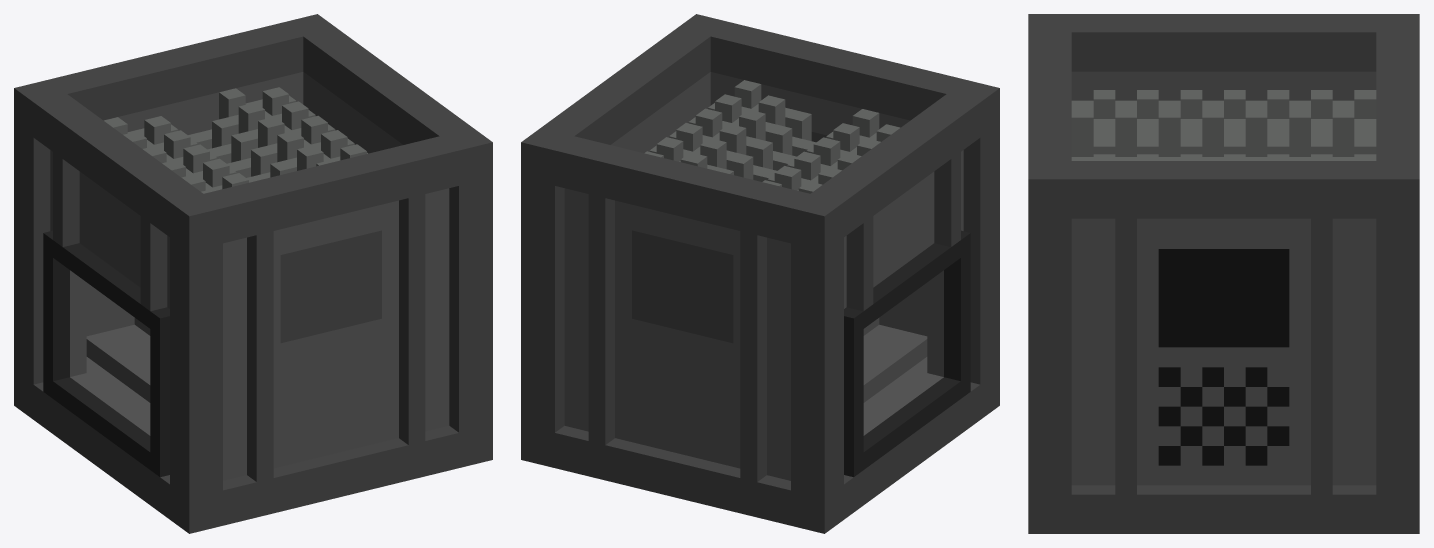
File: EssenceMacerator.obj
3 views of the same model, side by side, from view 1: azimuth 30°, elevation 25°; view 2: azimuth 150°, elevation 25°; view 3: azimuth 270°, elevation 25° (orthographic). The views are drawn at different scales.
Bounding box in the file's own units: 18 × 18 × 18.
1 material, 1 textured.
